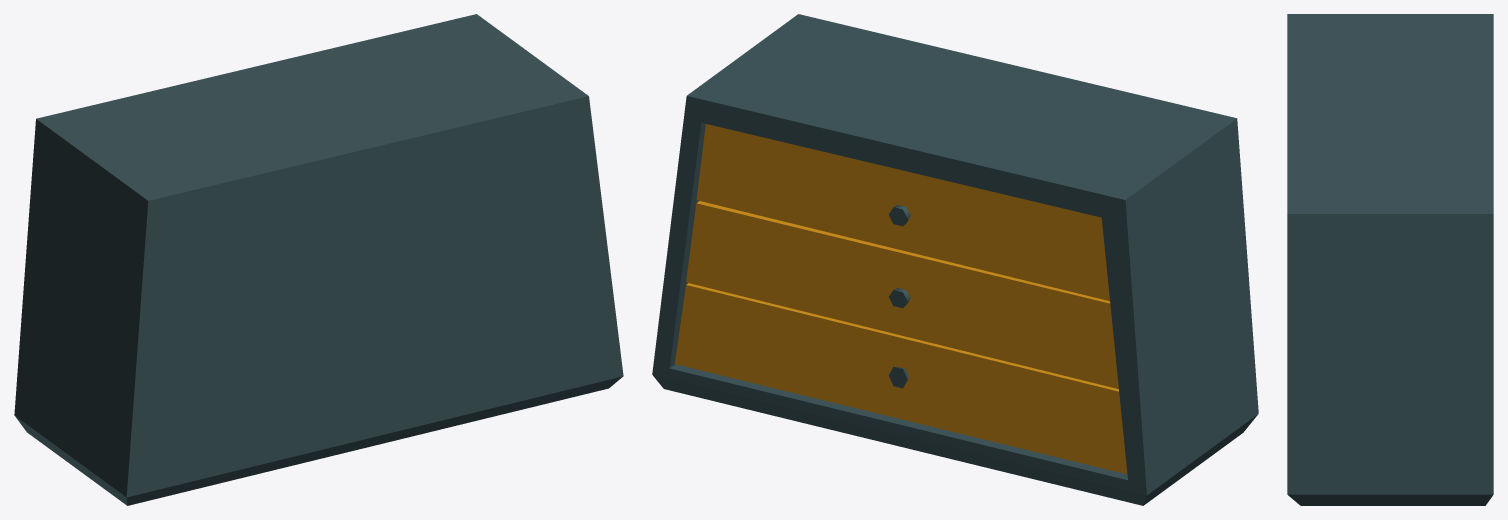
File: bedroom pedestal static.fbx
3 renders of one model, left to right at view 1: azimuth 30°, elevation 25°; view 2: azimuth 150°, elevation 25°; view 3: azimuth 270°, elevation 25°, orthographic. The views are drawn at different scales.
Visible parts, largest first — view 1: pedestal bedroom; view 2: pedestal bedroom, pedestal bedroom door 3, pedestal bedroom door 2, pedestal bedroom door 1; view 3: pedestal bedroom.
Part boxes in pixels (bbox=[...]): pedestal bedroom: bbox=[14, 14, 623, 505]; pedestal bedroom: bbox=[652, 14, 1258, 505]; pedestal bedroom door 3: bbox=[675, 283, 1127, 474]; pedestal bedroom door 2: bbox=[686, 201, 1118, 388]; pedestal bedroom door 1: bbox=[696, 124, 1109, 301]; pedestal bedroom: bbox=[1287, 14, 1493, 505].
Bounding box in the file's own units: 1.48 × 0.8736 × 0.5787.
